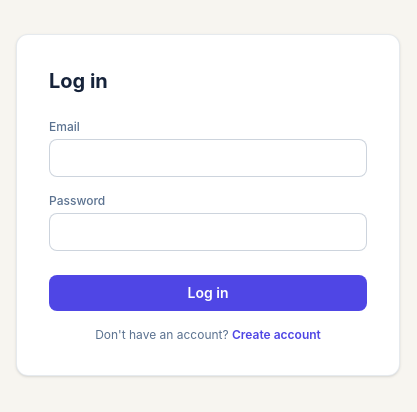
Test case: LoginPage › shows the server error and does not navigate when login rejects (edge case)
Type "alice@example.com" into the field labelled "Email".
click(208, 158); type("alice@example.com")  # box [49, 139, 367, 177]
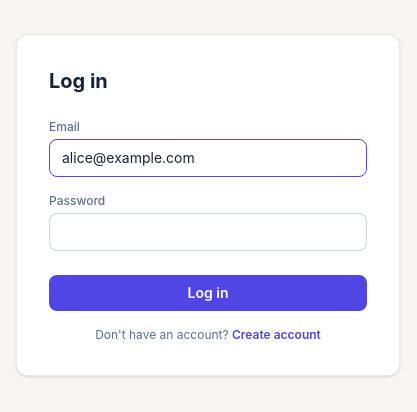
Type "wrong password entirely" into the password field labelled "Password".
click(208, 232); type("wrong password entirely")  # box [49, 213, 367, 251]
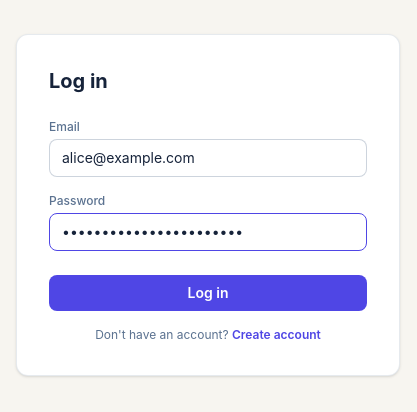
Click the button "Log in".
click(208, 293)  # box [49, 275, 367, 311]
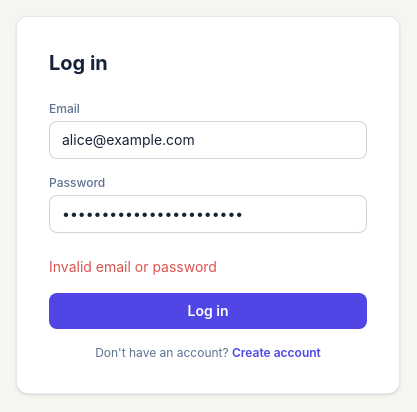
Expected: the text "Invalid email or password" is shown, [49, 258, 217, 275]
